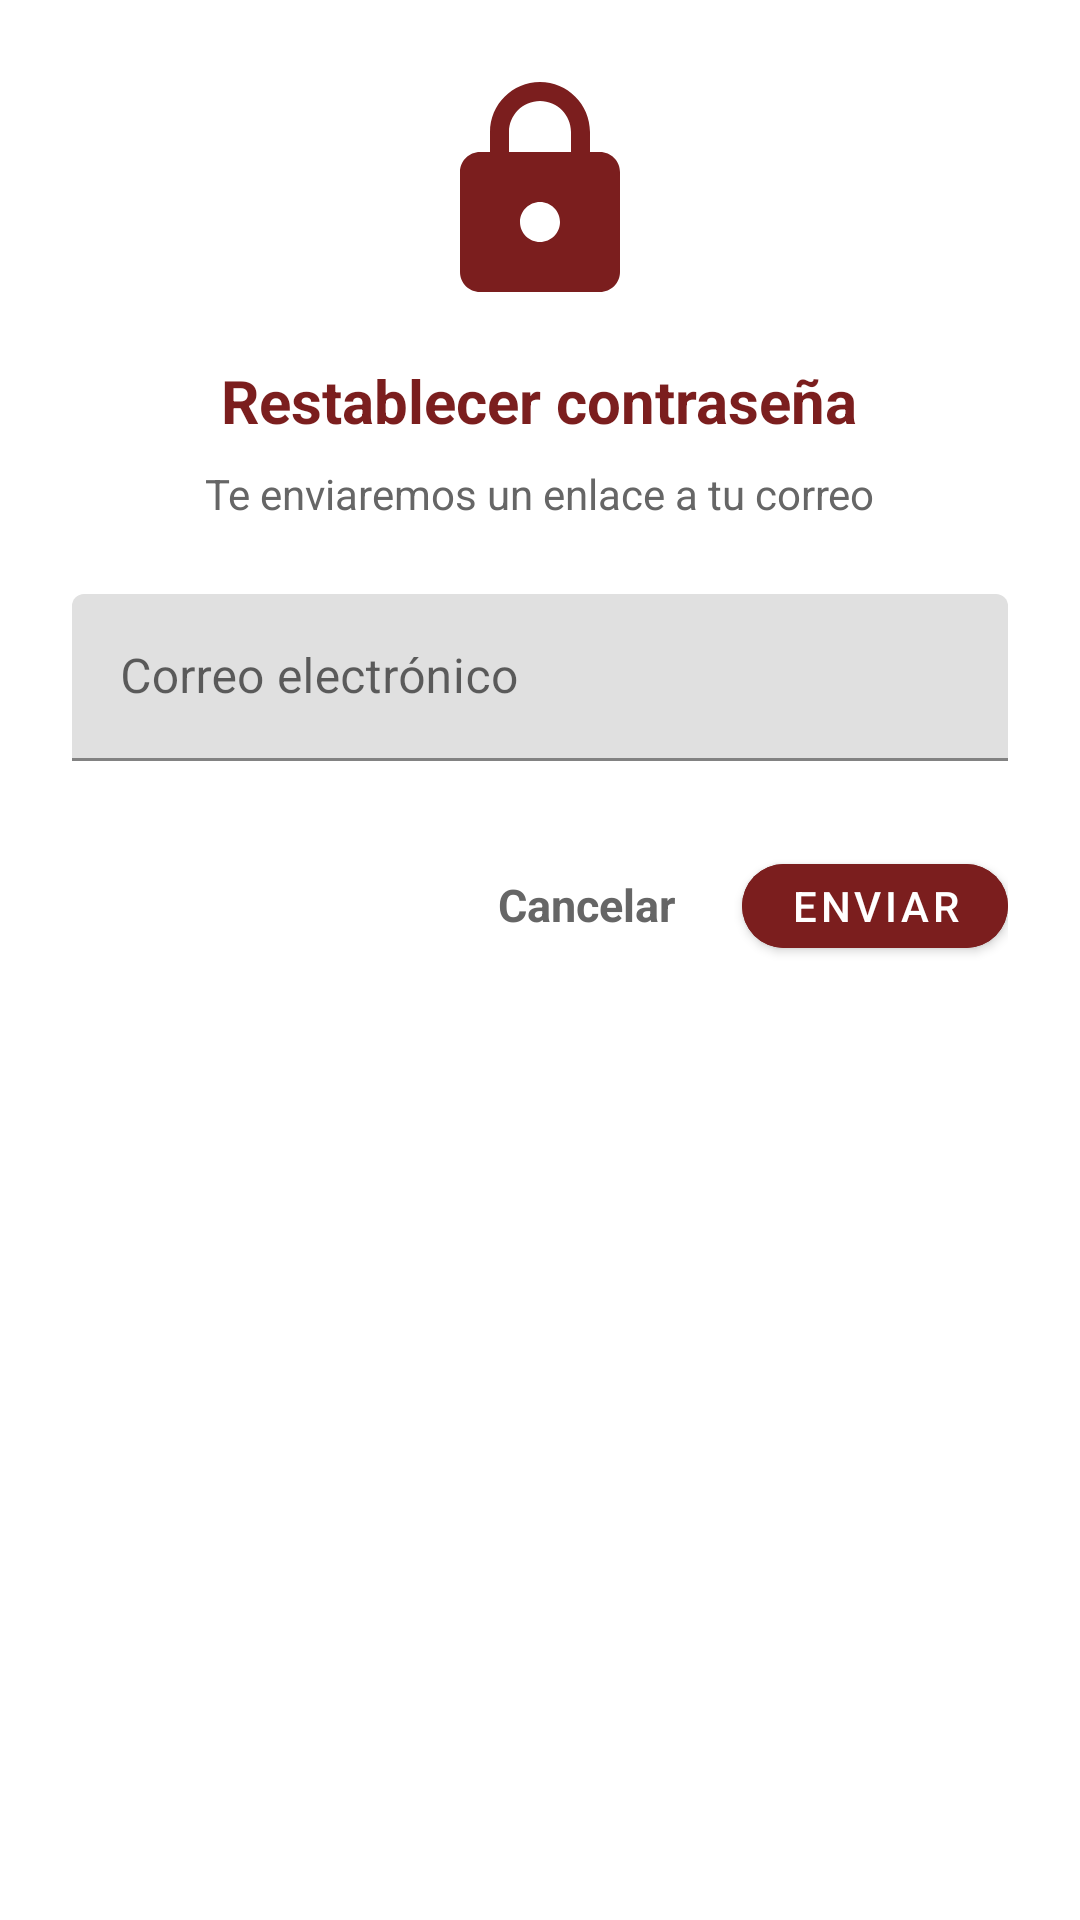

Icon bounding boxes for this 1080 x 1920 phone screenshot, format (x1, y1, x2, y2):
password: (460, 82, 620, 292)
